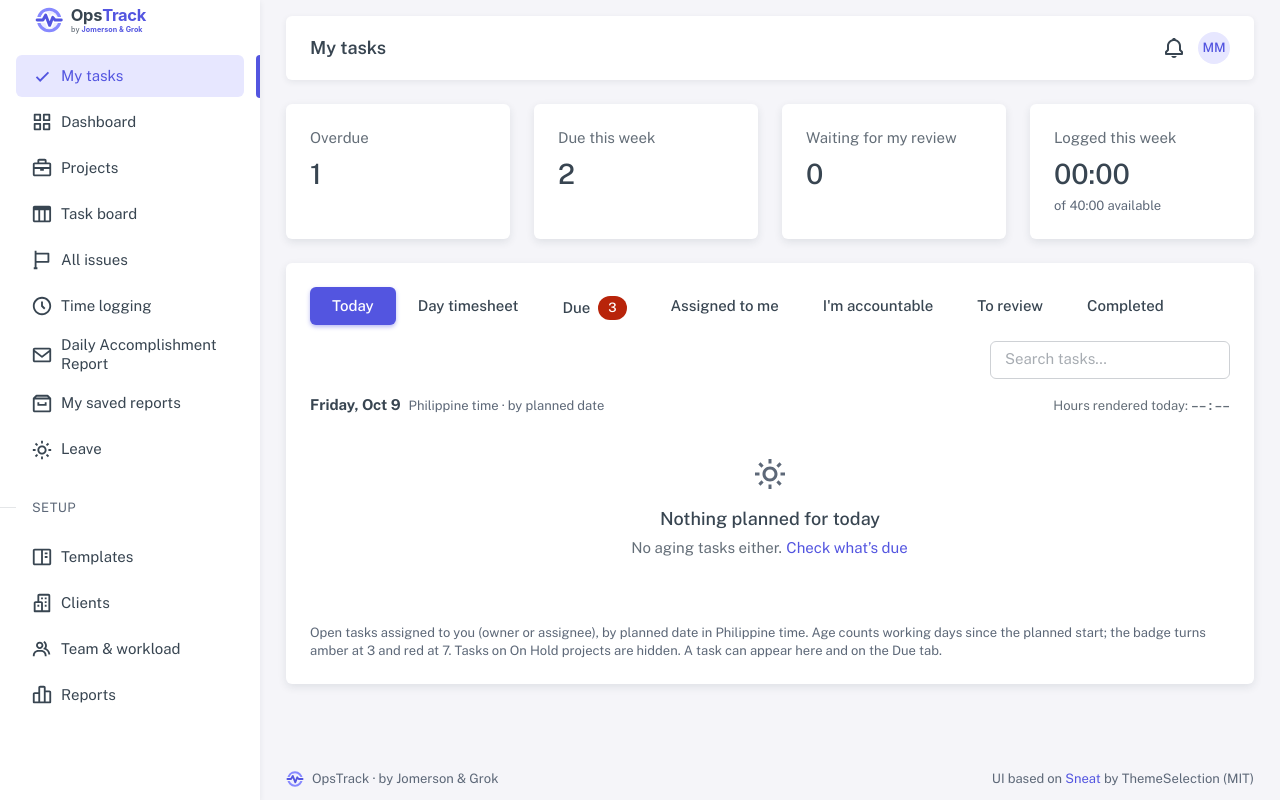
Scenario: My tasks › Due (FR-TSK-20/21/22, AC-TODAY-1, TC-N22) › is the second tab, shows the count, overdue first in red with days overdue, then due today, each with Log time
Expected: the text "Friday, Oct 9" is shown, [310, 395, 401, 415]
Click the button "Due 3" at {"x": 594, "y": 308}, box [540, 287, 649, 329]
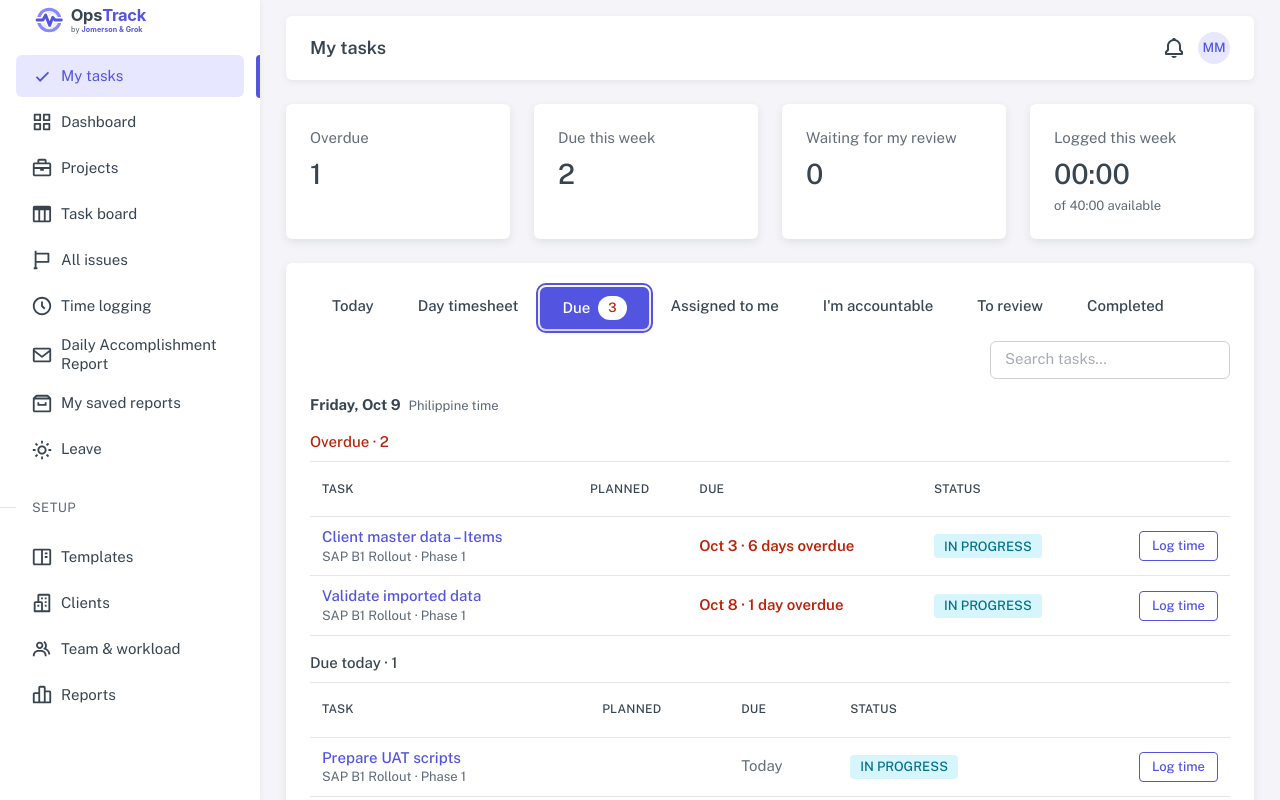
Expected: the heading "Due today · 1" is shown, [310, 654, 398, 671]
Expected: the text "Oct 8 · 1 day overdue" is shown, [687, 576, 922, 635]
Expected: the number of buttons "Log time" is 3, [1139, 531, 1218, 561]; [1139, 591, 1218, 621]; [1139, 752, 1218, 782]
